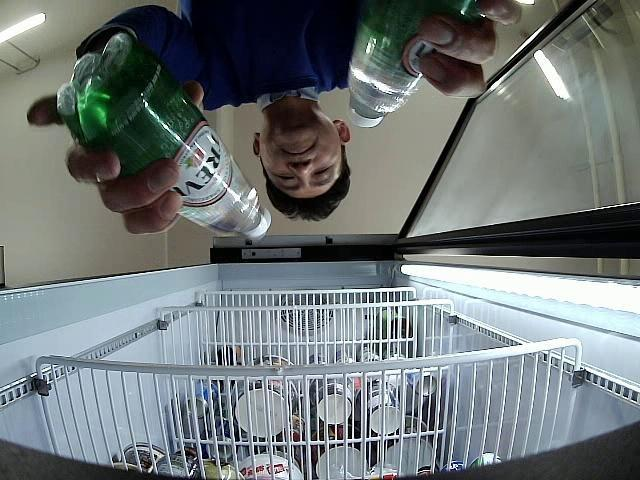18_trevi: (56, 34, 272, 240), (349, 0, 480, 128)
